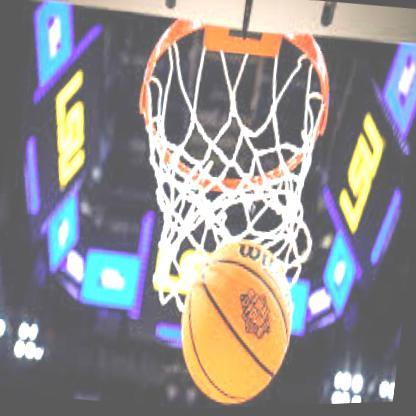basketball: (172, 234, 300, 411)
rim: (123, 12, 340, 256)
